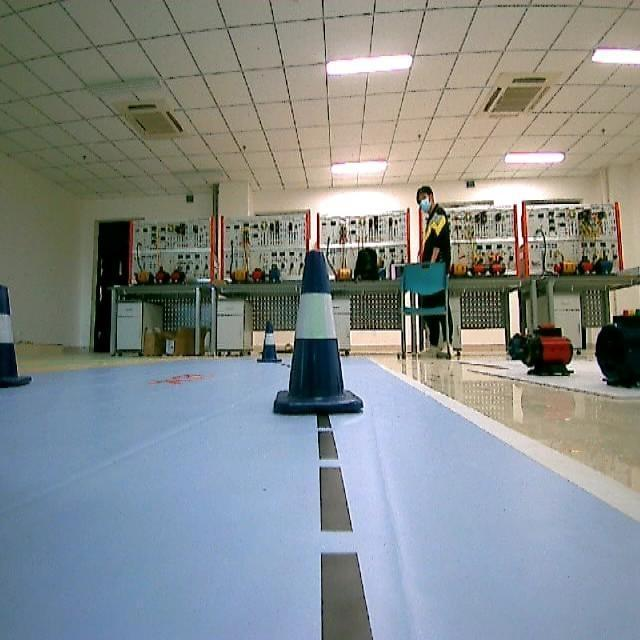obstacle: (270, 245, 368, 426), (0, 272, 39, 402), (252, 323, 286, 363)
